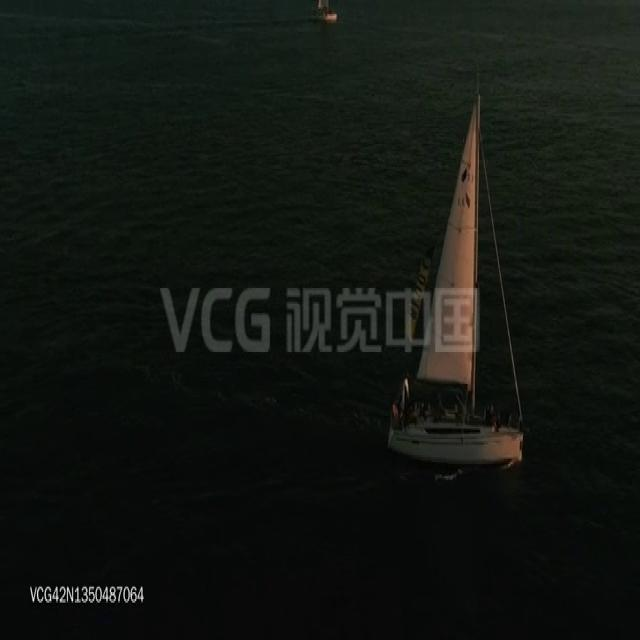sailboat: (380, 80, 528, 466), (312, 0, 337, 24)
